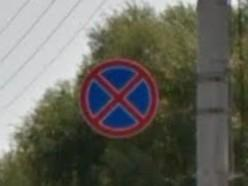No Parking: (80, 59, 159, 139)
